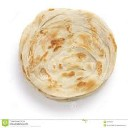parota: (21, 8, 117, 100)
